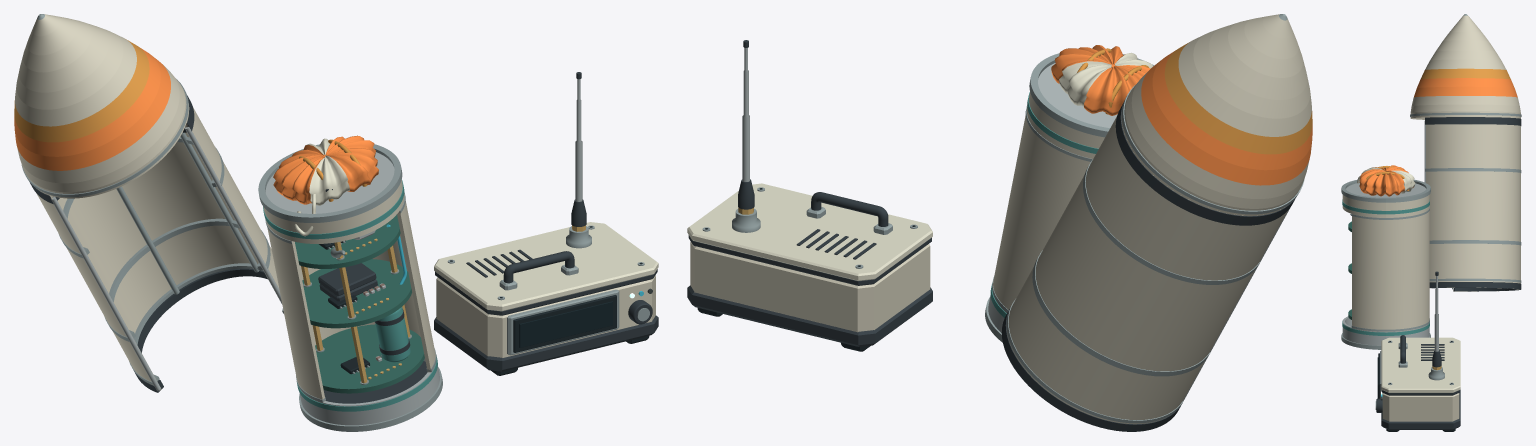
Rendered from p1_cansat_rocket_telemetry.glb.
3 renders of one model, left to right at view 1: azimuth 30°, elevation 25°; view 2: azimuth 150°, elevation 25°; view 3: azimuth 270°, elevation 25°, orthographic. The views are drawn at different scales.
Parts seen in each view (by area): view 1: Nose fairing, Open payload bay, Enclosure, Observation window, Folded parachute, Battery board, Blank OLED, Sectioned frames, Telemetry board, Rolled rims, Sensor board, Cut edge trim (+9 smaller); view 2: Open payload bay, Nose fairing, Enclosure, Observation window, Sectioned frames, Folded parachute, Removable telemetry antenna, Rolled rims, Recovery deck, Grip, Top grille, Telemetry bands; view 3: Open payload bay, Observation window, Nose fairing, Enclosure, Sectioned frames, Folded parachute, Rolled rims, Telemetry bands, Removable telemetry antenna, Recovery deck, Top grille, Blank OLED.
Part boxes in pixels (box(x1,y1,x2,y2)): Nose fairing: box(14, 14, 188, 198); Open payload bay: box(36, 103, 278, 390); Enclosure: box(434, 222, 658, 371); Observation window: box(263, 180, 439, 425); Folded parachute: box(273, 135, 378, 205); Battery board: box(315, 324, 424, 393); Blank OLED: box(507, 289, 619, 355); Sectioned frames: box(30, 95, 283, 392); Telemetry board: box(302, 259, 411, 328); Rolled rims: box(258, 144, 442, 431); Sensor board: box(295, 214, 400, 268); Cut edge trim: box(51, 127, 282, 390); Open payload bay: box(1006, 112, 1287, 424); Nose fairing: box(1121, 14, 1312, 215); Enclosure: box(687, 183, 932, 346); Observation window: box(988, 92, 1104, 332); Sectioned frames: box(1001, 103, 1295, 431); Folded parachute: box(1051, 45, 1153, 115); Removable telemetry antenna: box(732, 40, 760, 232); Rolled rims: box(985, 53, 1154, 342); Recovery deck: box(1038, 63, 1117, 127); Grip: box(811, 192, 888, 226); Top grille: box(796, 229, 876, 259); Telemetry bands: box(990, 92, 1098, 317); Open payload bay: box(1425, 116, 1520, 291); Observation window: box(1342, 195, 1429, 345); Nose fairing: box(1410, 14, 1521, 119); Enclosure: box(1381, 337, 1460, 429); Sectioned frames: box(1425, 117, 1521, 291); Folded parachute: box(1359, 165, 1415, 196); Rolled rims: box(1341, 179, 1430, 349); Telemetry bands: box(1342, 199, 1429, 335); Removable telemetry antenna: box(1428, 271, 1444, 380); Recovery deck: box(1346, 183, 1425, 197); Top grille: box(1421, 344, 1444, 360); Blank OLED: box(1377, 351, 1382, 398).
Bounding box in the file's own units: 0.3005 × 0.2071 × 0.133.
